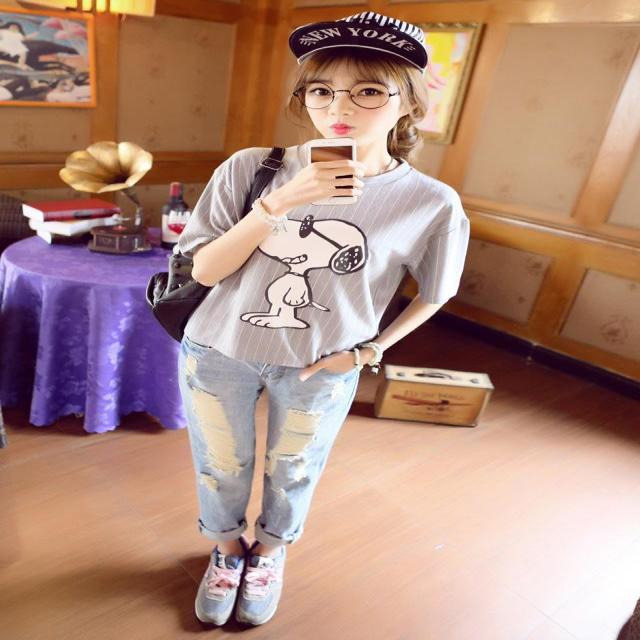short-sleeve-top: (221, 136, 458, 362)
trousers: (182, 352, 378, 535)
